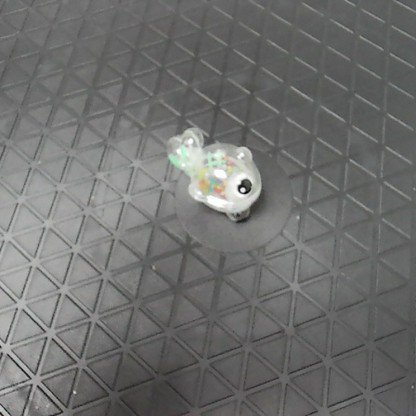whitefish: (160, 123, 268, 223)
